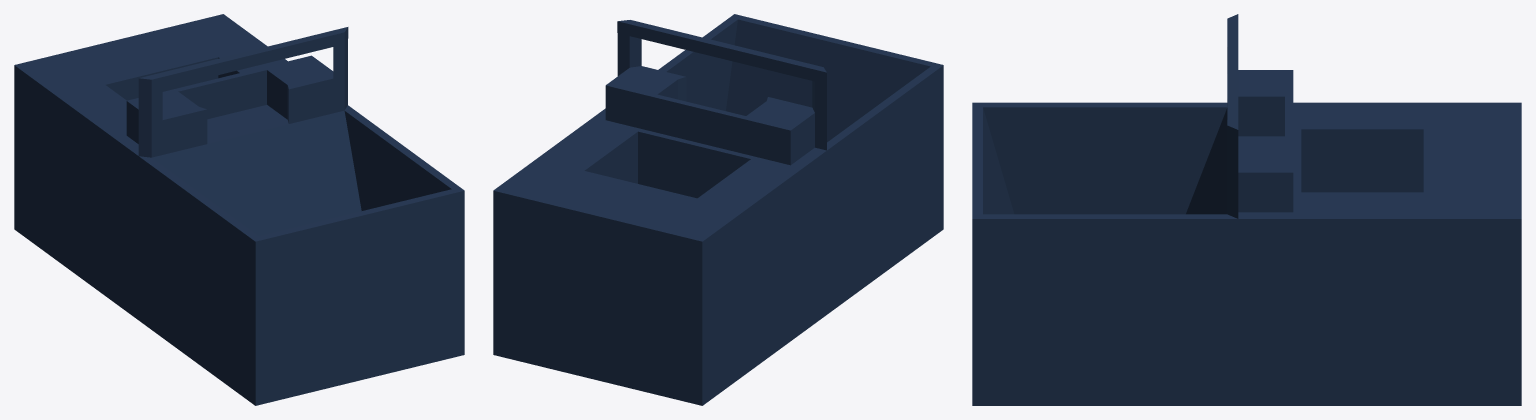
File: Mop_Bucket.fbx
3 views of the same model, side by side, from view 1: azimuth 30°, elevation 25°; view 2: azimuth 150°, elevation 25°; view 3: azimuth 270°, elevation 25° (orthographic). The views are drawn at different scales.
Visible parts, largest first — view 1: Mop_Bucket; view 2: Mop_Bucket; view 3: Mop_Bucket.
Boxes of the visible parts, bbox=[...] form: Mop_Bucket: bbox=[14, 14, 464, 405]; Mop_Bucket: bbox=[493, 14, 943, 405]; Mop_Bucket: bbox=[972, 14, 1521, 405].
Bounding box in the file's own units: 0.2247 × 0.2485 × 0.4482.
